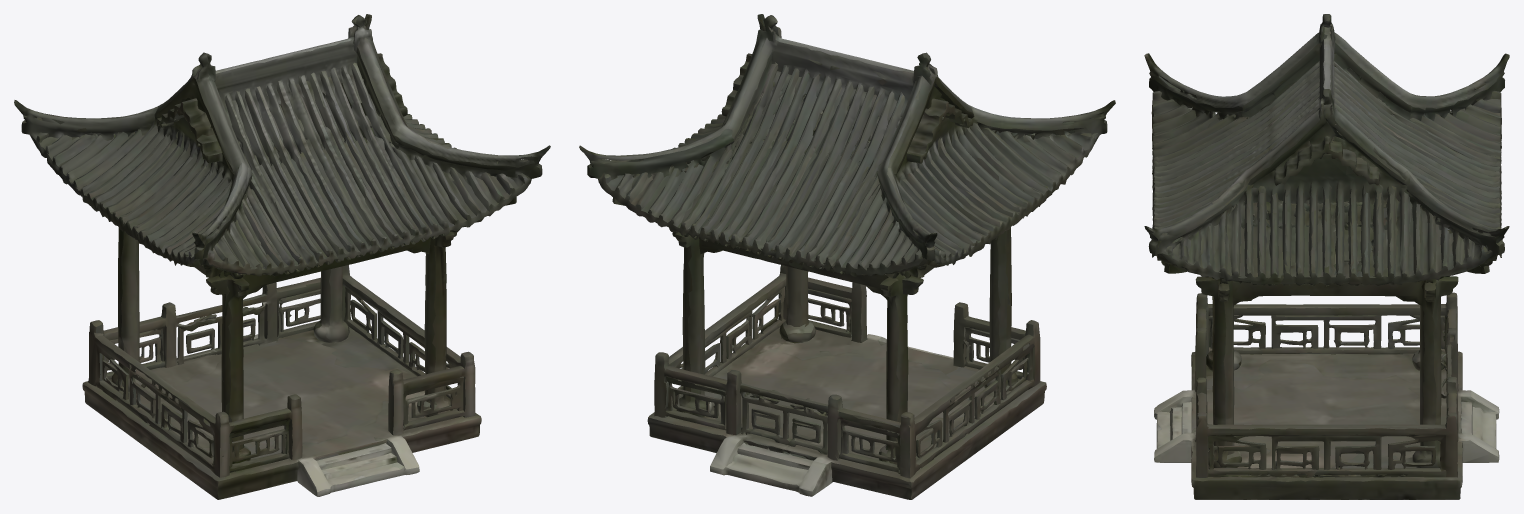
Rendered from pavilion_opt.glb.
3 renders of one model, left to right at view 1: azimuth 30°, elevation 25°; view 2: azimuth 150°, elevation 25°; view 3: azimuth 270°, elevation 25°, orthographic.
Visible parts, largest first — view 1: geometry_0; view 2: geometry_0; view 3: geometry_0.
Part boxes in pixels (bbox=[...]): geometry_0: bbox=[14, 14, 550, 499]; geometry_0: bbox=[579, 14, 1115, 499]; geometry_0: bbox=[1144, 14, 1509, 499].
Bounding box in the file's own units: 4.5 × 4.65 × 3.98.
Materials: 1 (1 with a texture image).
